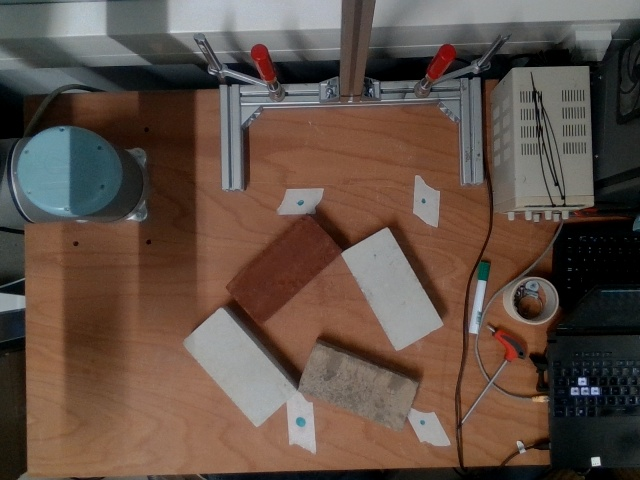brick: (183, 307, 296, 426), (340, 227, 442, 352), (227, 214, 339, 324), (296, 345, 420, 435)
